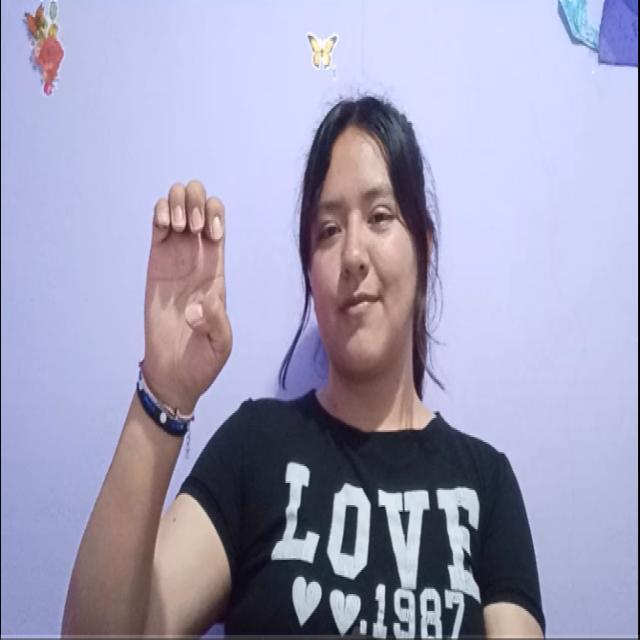E: (123, 171, 246, 417)
